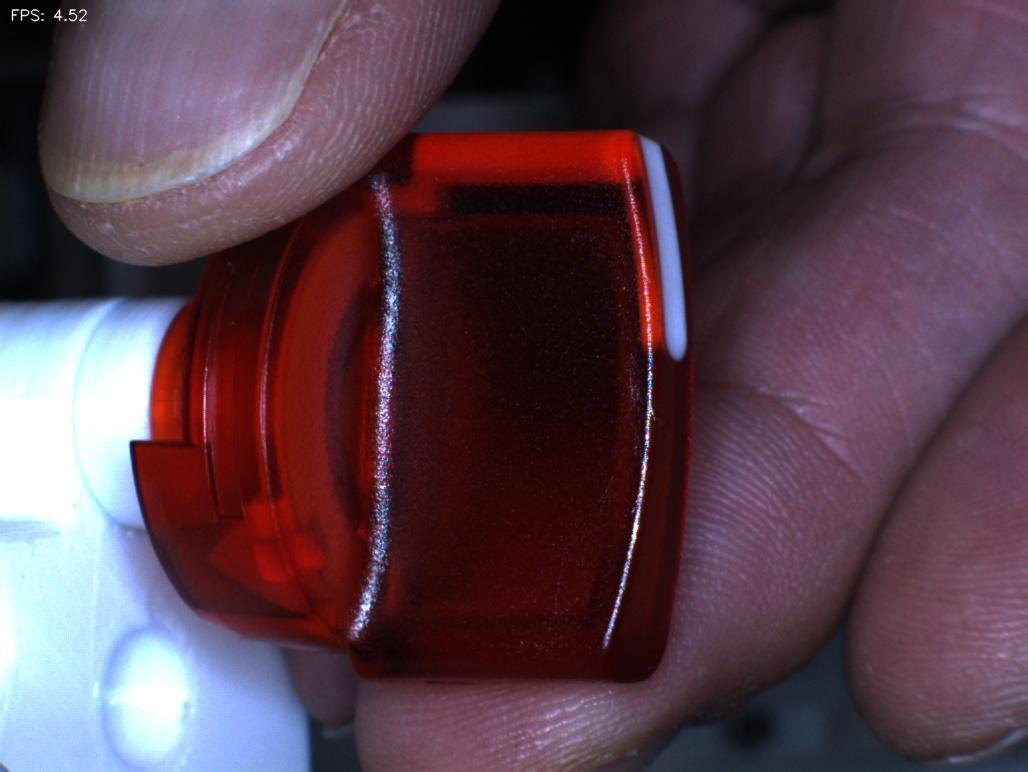Givrage: (589, 333, 659, 475)
